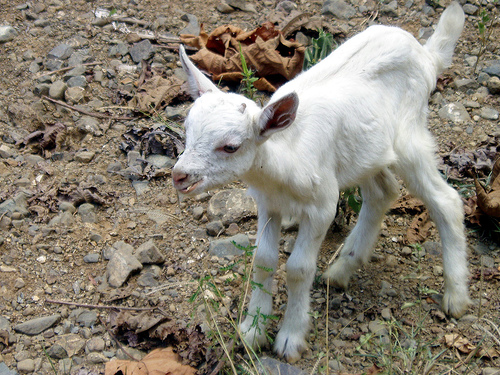goat: (169, 1, 468, 360)
